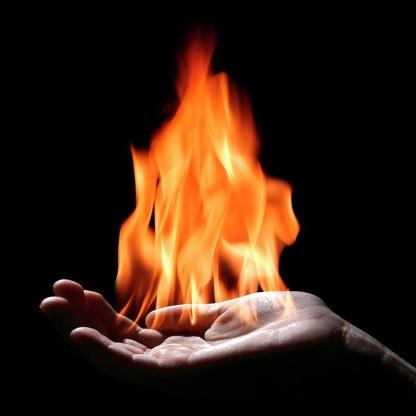fire: (106, 29, 304, 339)
